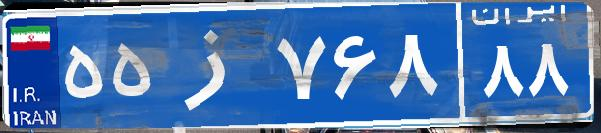5: (57, 26, 110, 107), (110, 28, 158, 105)
6: (330, 28, 385, 110)
7: (273, 28, 330, 110)
8: (385, 28, 445, 110), (475, 38, 525, 113), (525, 38, 570, 115)
ز: (158, 15, 273, 115)
